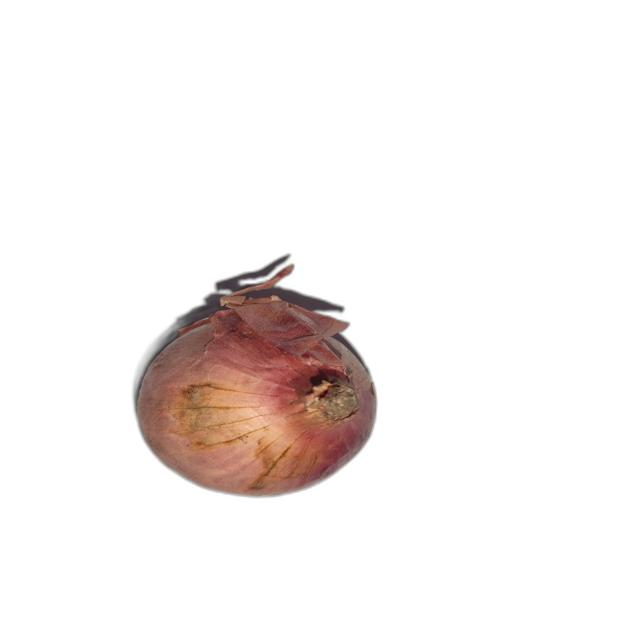onion: (136, 264, 378, 497)
